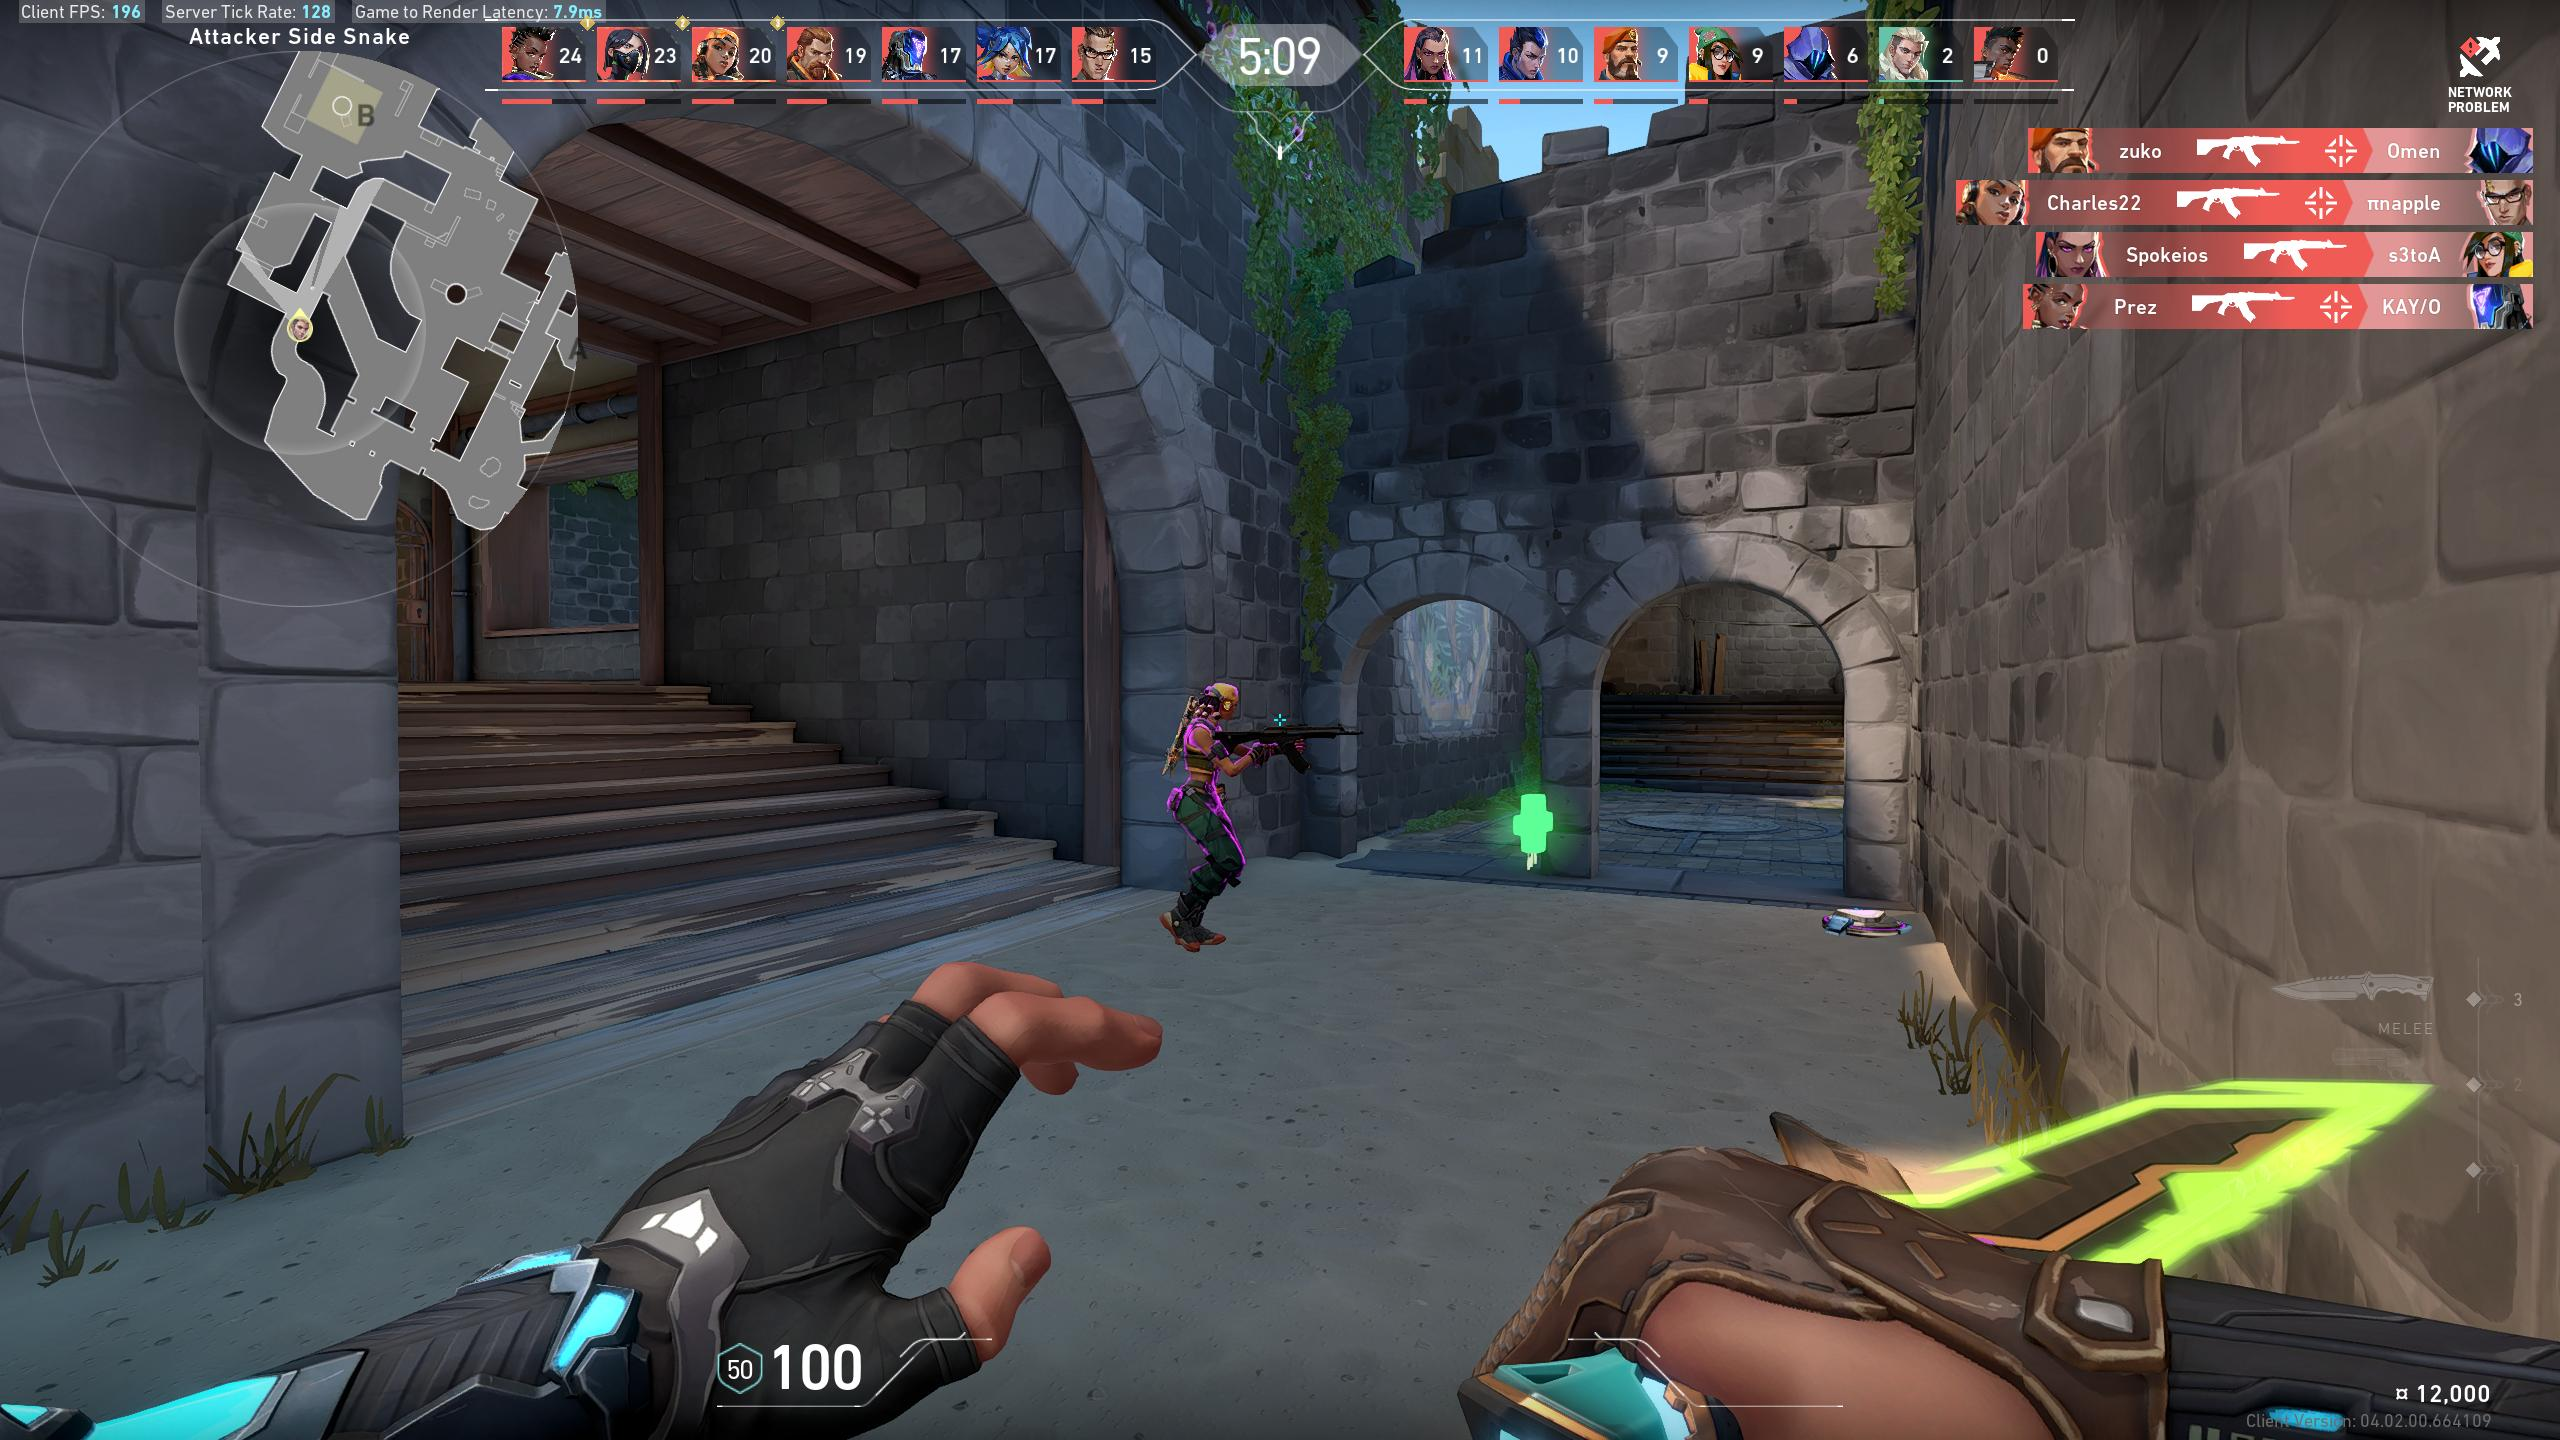enemyBody: (1190, 726, 1211, 798)
enemyHead: (1211, 687, 1231, 714)
